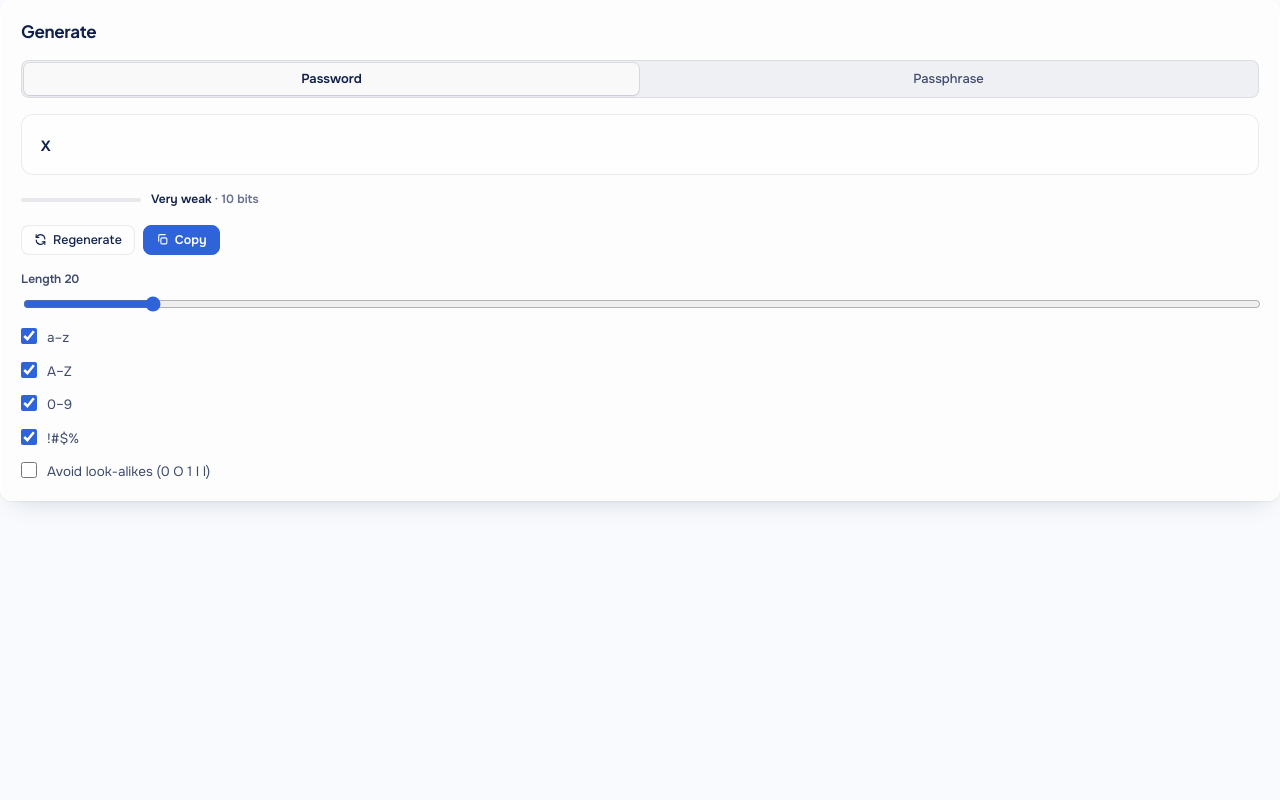
Test: Generator › reports a failed copy
expect the text "x" is shown: met, box [40, 132, 52, 157]
What coordinates should you click on to do the following:
click the button "Copy"
I would click on:
 (181, 240)
Its box is [143, 225, 220, 255].
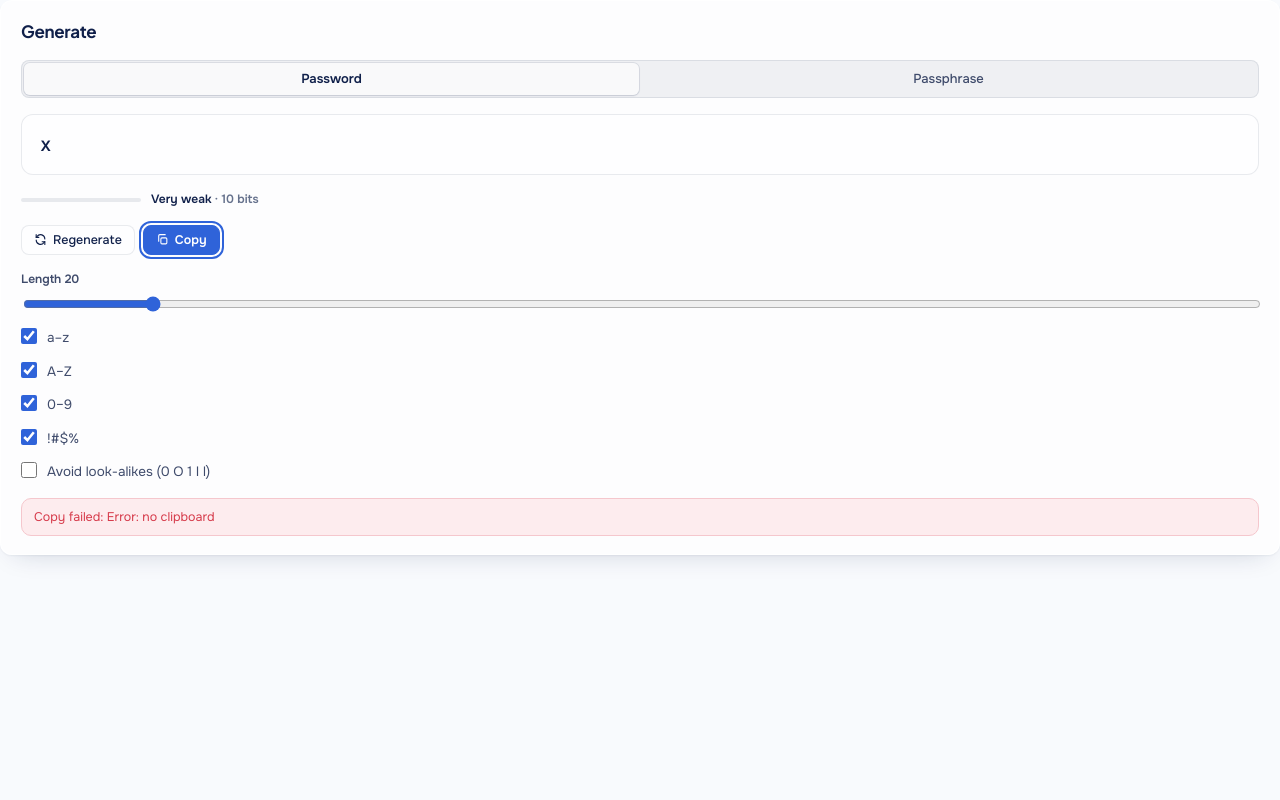
expect the text "Copy failed: Error: no clipboard" is shown: met, box [21, 498, 1259, 536]
